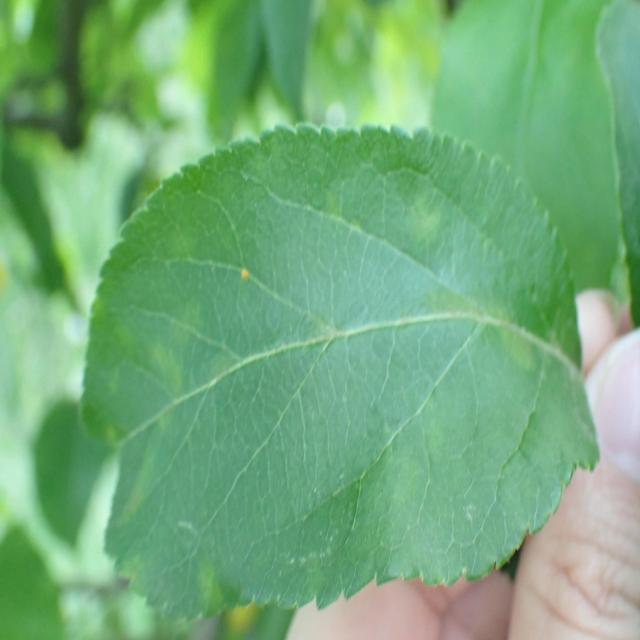Rust: (235, 254, 258, 302)
scab: (82, 177, 572, 568)
